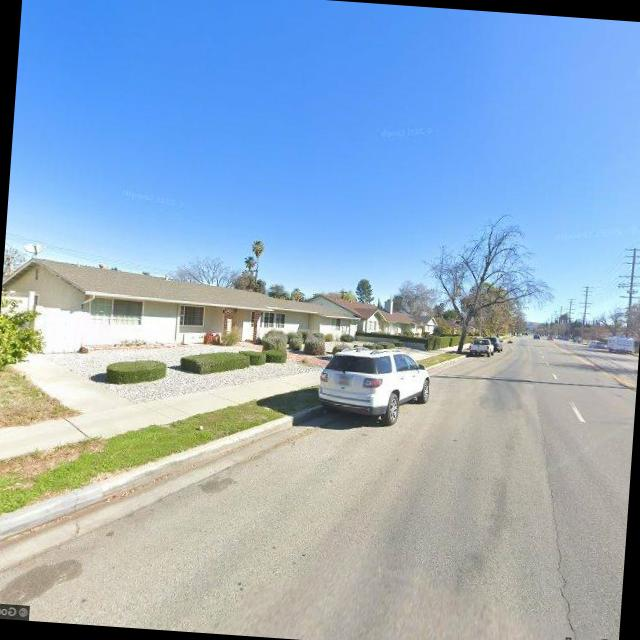pothole: (541, 488, 589, 640)
